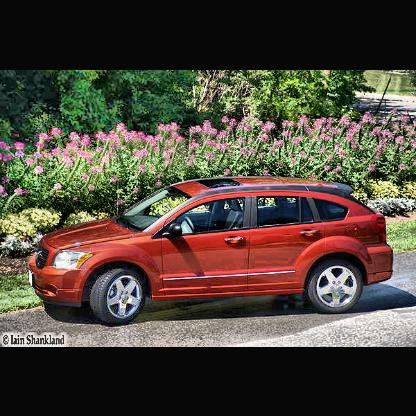Dodge Caliber Wagon 2007: (32, 180, 395, 327)
